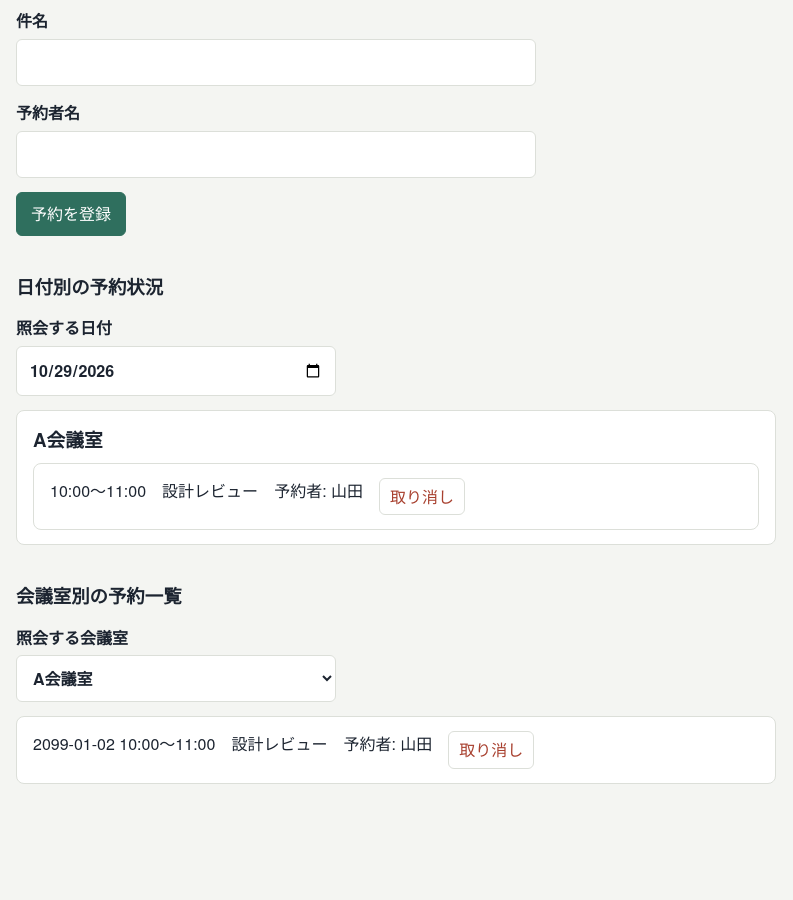
Scenario: ReservationRegistration › 予約取り消しAPIのエラーを画面に表示する
(page scrolled)
Click the button with aria-label "設計レビューの予約を取り消す". click: (422, 496)
box: x1=379 y1=478 x2=465 y2=515
(page scrolled)
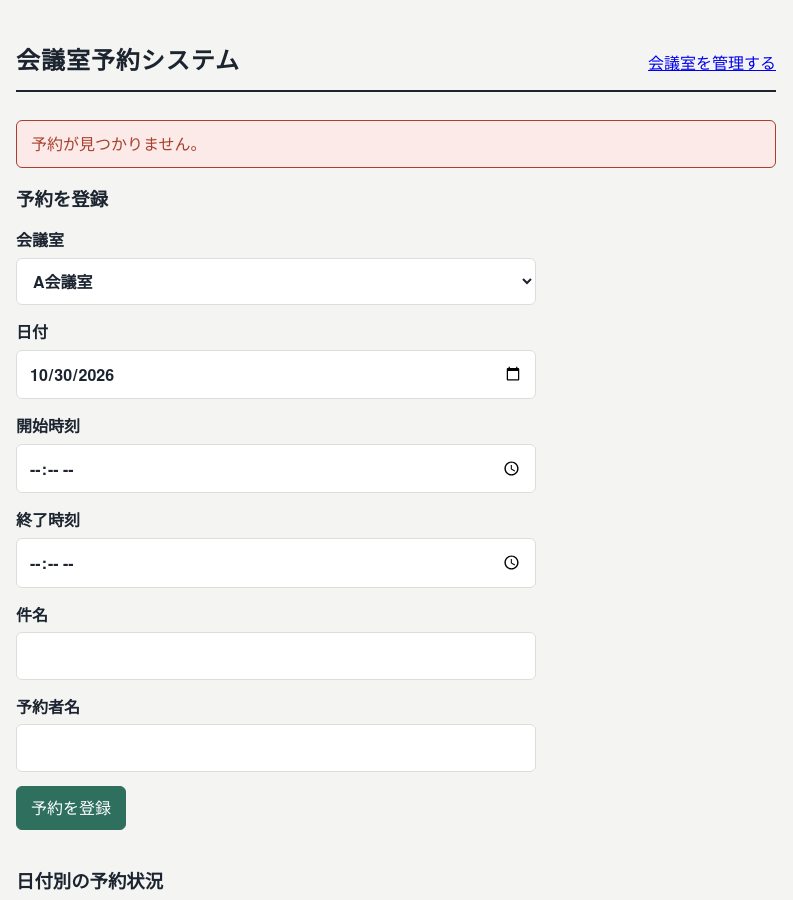
Result: the message reads "予約が見つかりません。" at x1=31 y1=132 x2=206 y2=155
